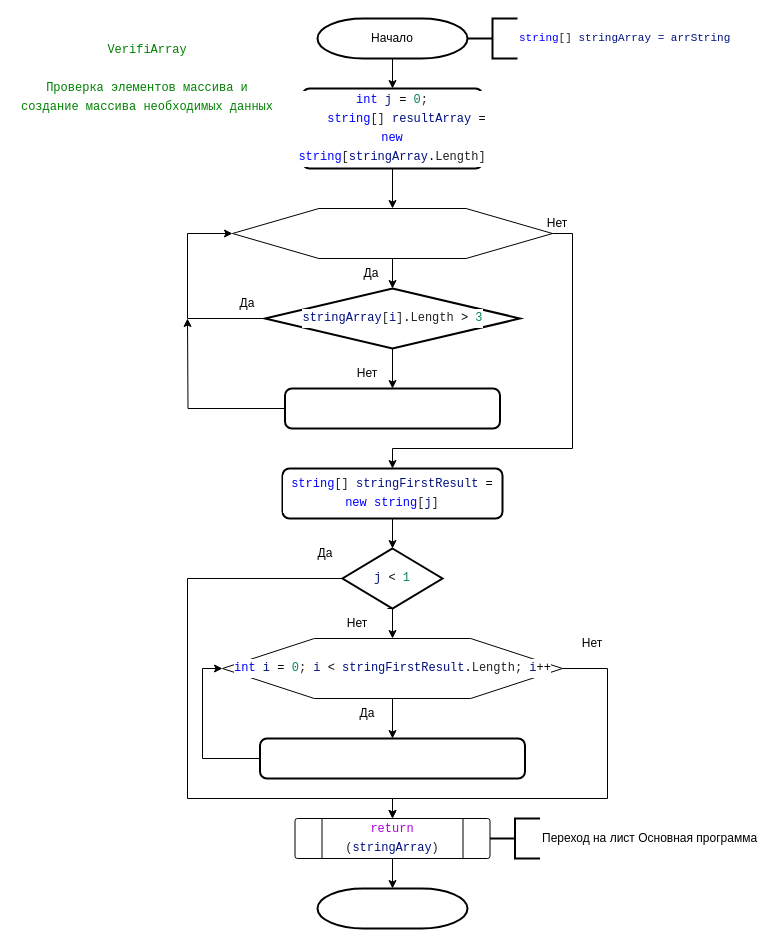
Image size: 774x946. Some labels were removed from this diagram. The shapes that lost their labels are listed below. From the top down, each one's centre as x and y in pixels, then its label:
(392,233): int i = 0 ; i < stringArray . Length ; i ++
(392,408): resultArray [ j ] = stringArray [ i ] ; j ++
(392,758): stringFirstResult [ i ] = resultArray [ i ]
(392,908): Конец / End
